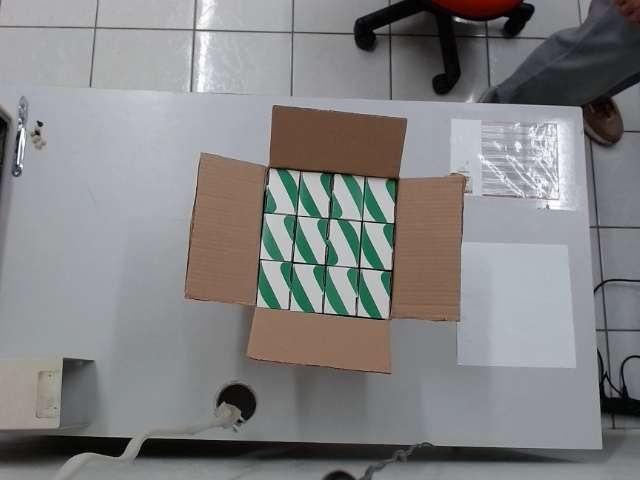divisor: (454, 235, 578, 371)
item: (288, 261, 328, 317), (355, 267, 394, 323), (254, 258, 291, 315), (262, 162, 299, 219), (359, 220, 399, 272), (329, 171, 368, 224), (362, 173, 401, 226), (324, 263, 360, 320), (295, 169, 336, 219), (325, 217, 363, 269), (294, 214, 332, 265), (260, 209, 296, 262)
